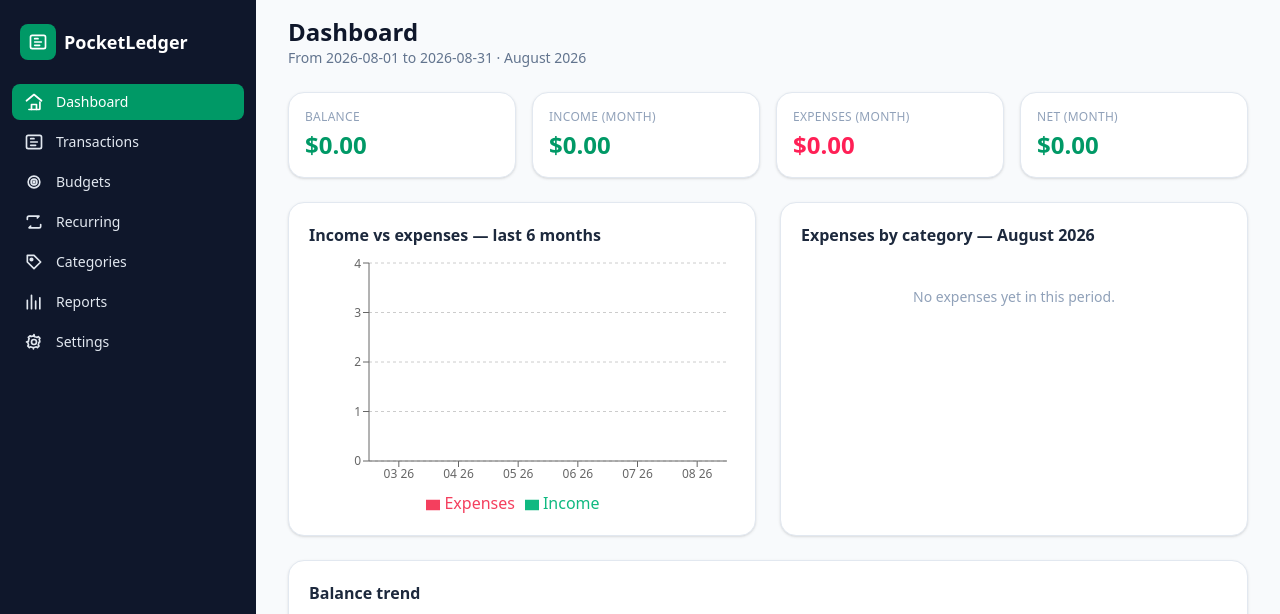
it: PocketLedger UI › unlocks budgets for premium users
Expected: the text "Dashboard" is shown, [56,92,128,112]
Click the link "Budgets" at [67, 182], box [24,172,111,192]
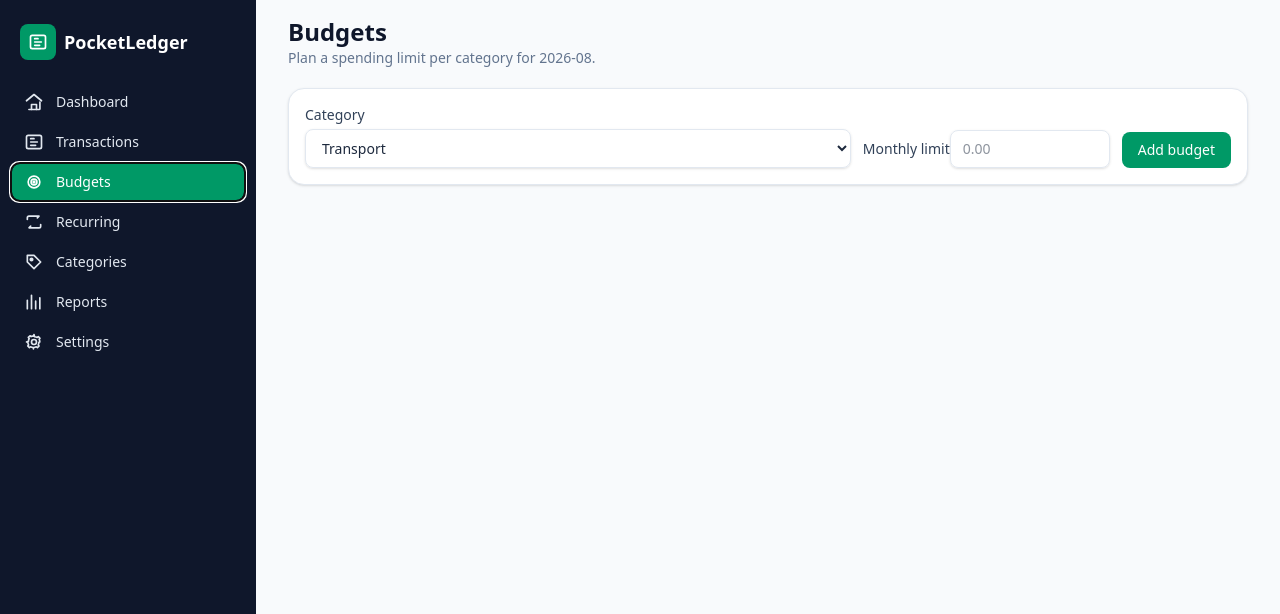
Expected: the button "Add budget" is shown, [1122,132,1231,168]
